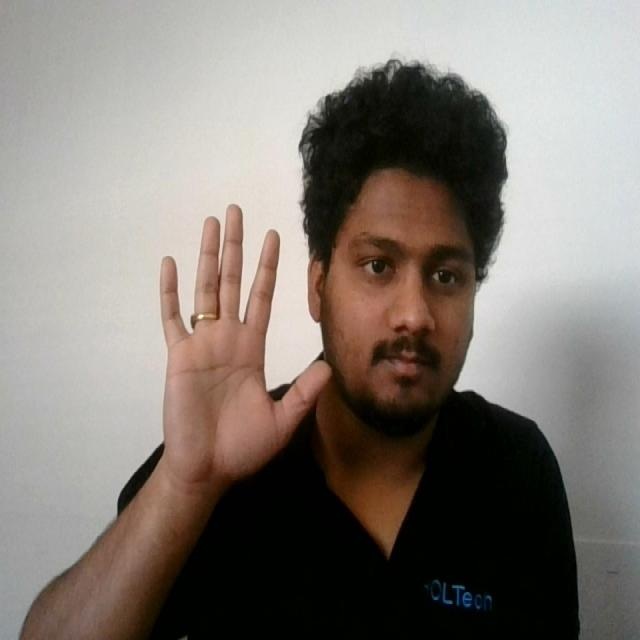Hello: (153, 196, 334, 501)
